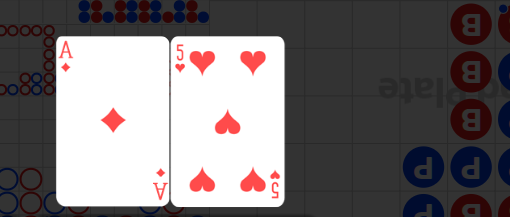5H: (269, 168, 281, 200)
AD: (59, 41, 75, 75)
